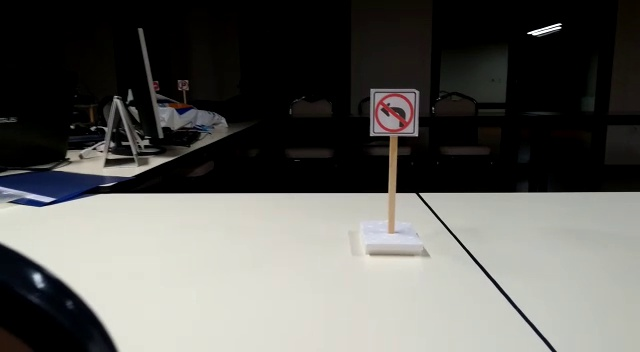sola_donulmez: (368, 89, 416, 137)
